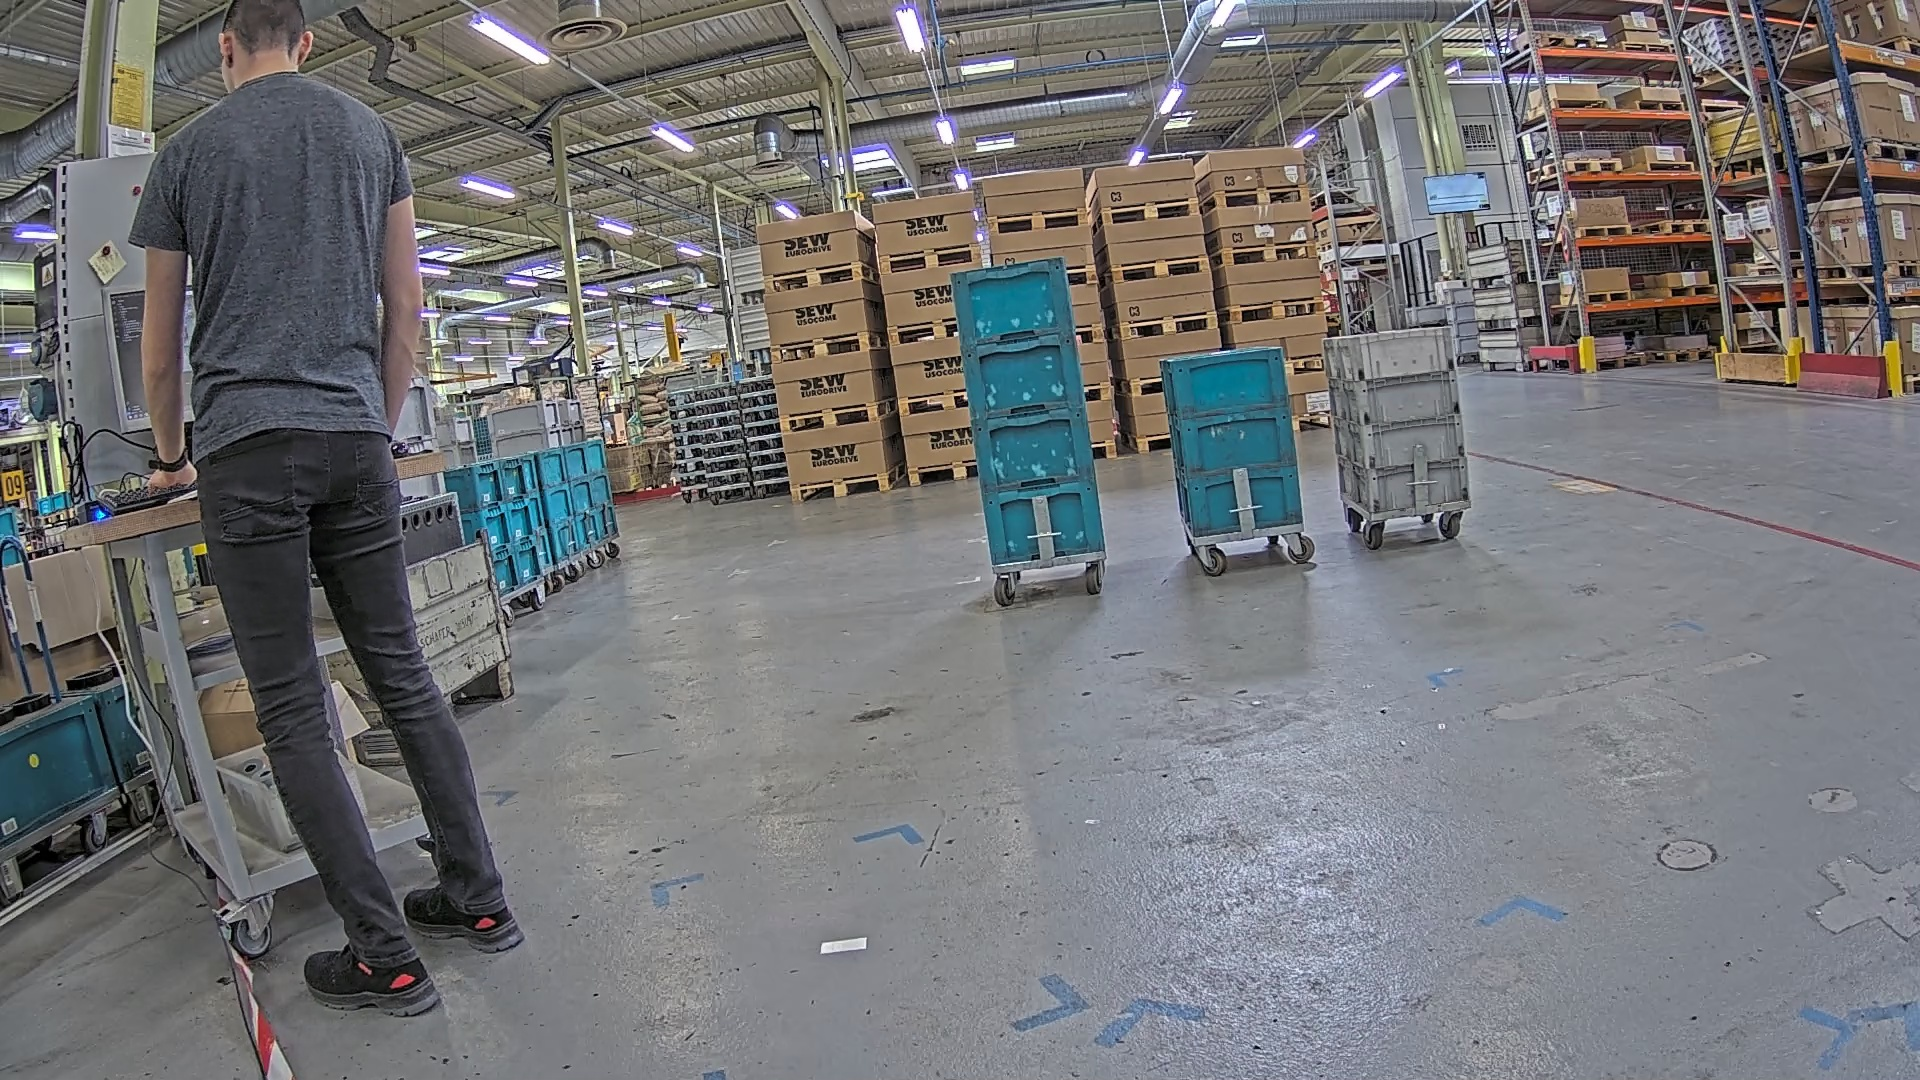4G: (945, 256, 1109, 567)
8G: (1349, 324, 1472, 516)
B8: (1162, 344, 1305, 539)
